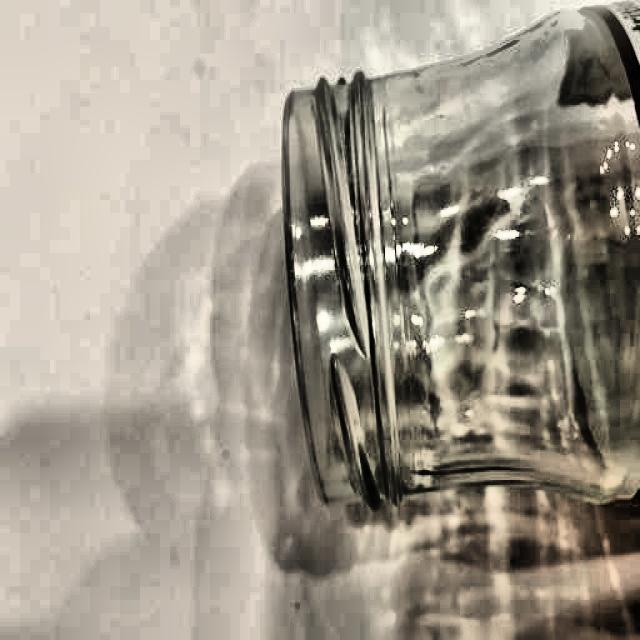glass: (279, 0, 640, 507)
